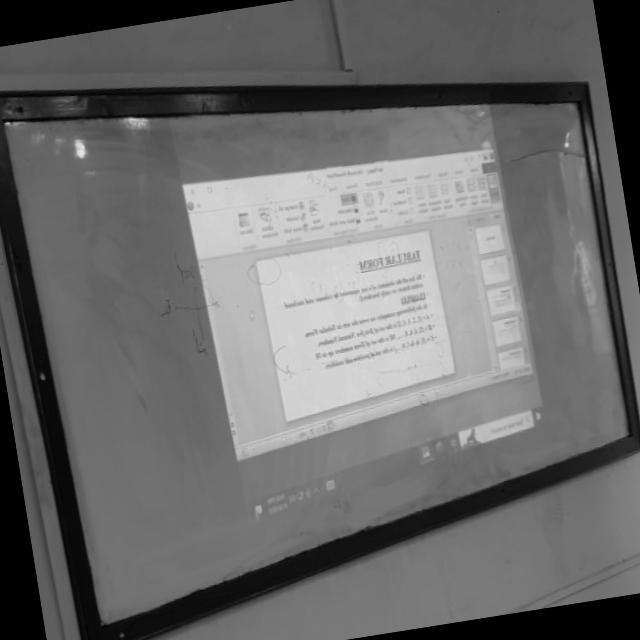Slide: (167, 94, 550, 542)
White-board: (0, 91, 640, 640)
